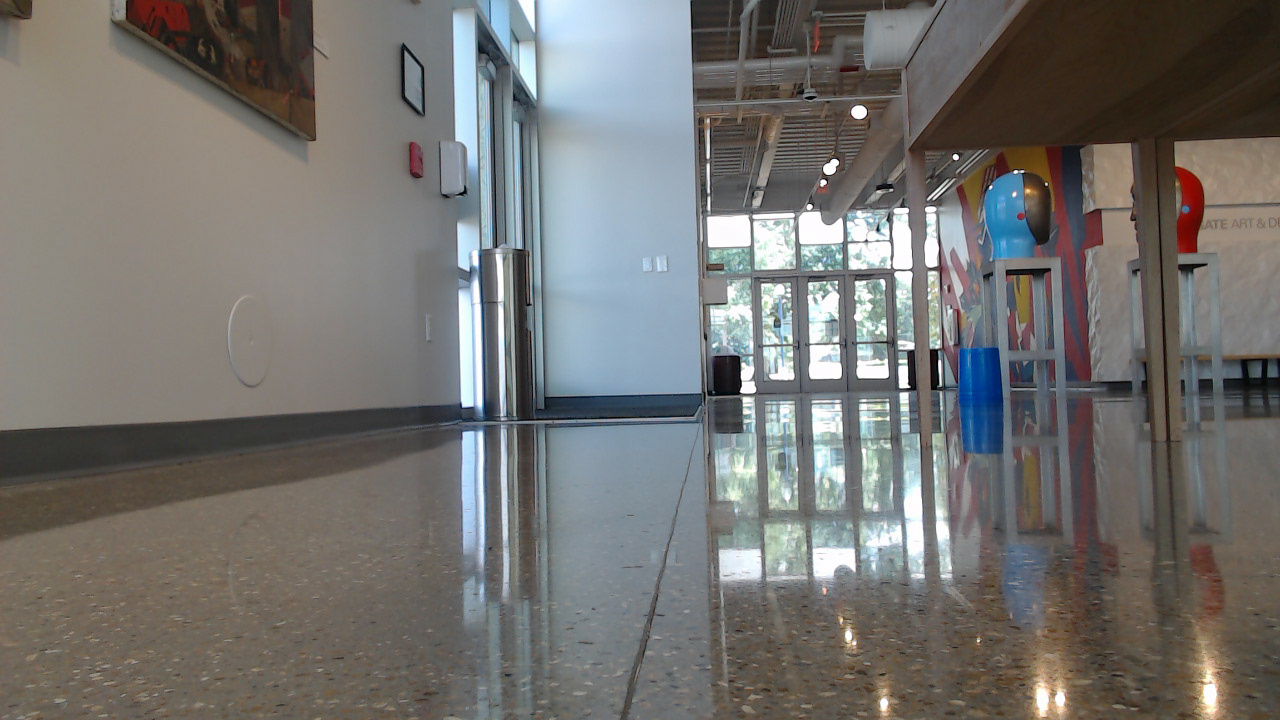blue_bucket: (963, 350, 1010, 409)
